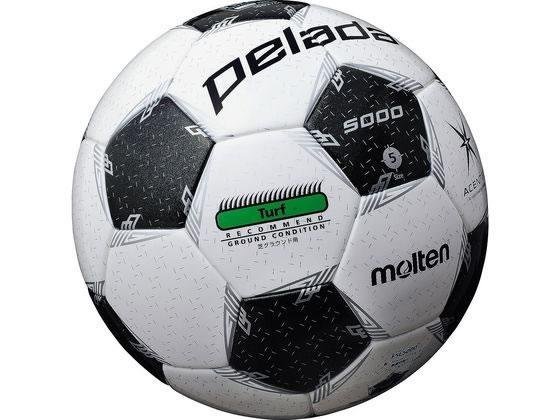Sports-Ball: (70, 0, 486, 416)
